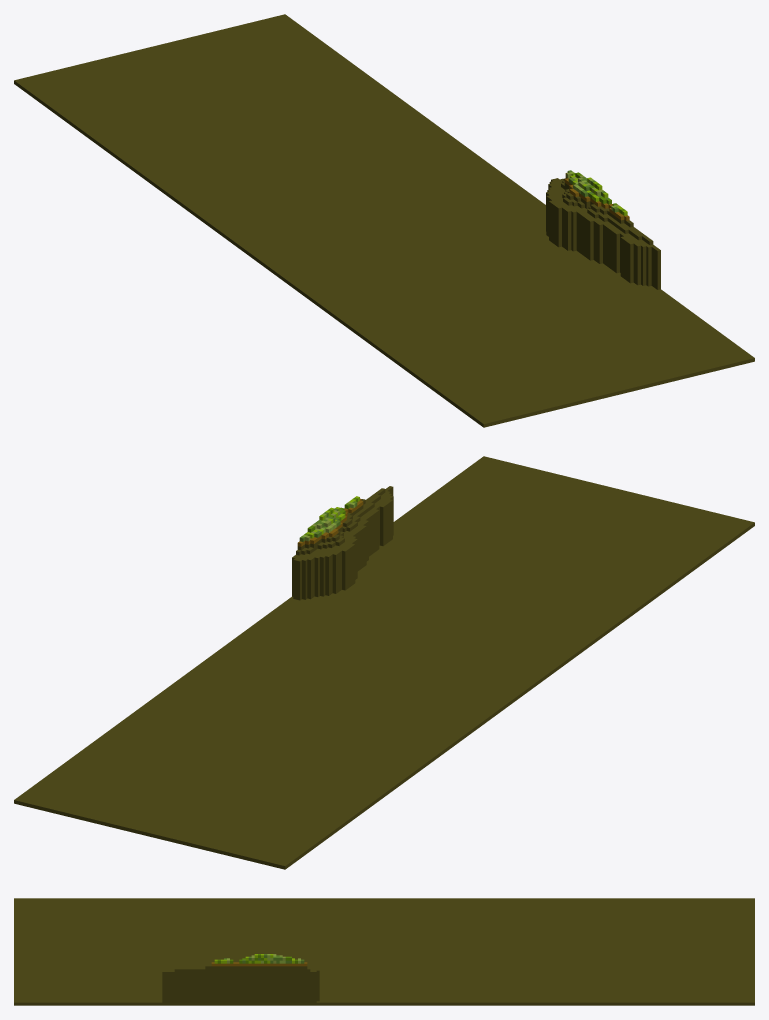
The model's file is Tab E5-0.obj.
3 renders of one model, top to bottom at view 1: azimuth 30°, elevation 25°; view 2: azimuth 150°, elevation 25°; view 3: azimuth 270°, elevation 25°, orthographic. The views are drawn at different scales.
Size of the model in its own units: 8 by 1.8 by 24.
1 material, 1 textured.
